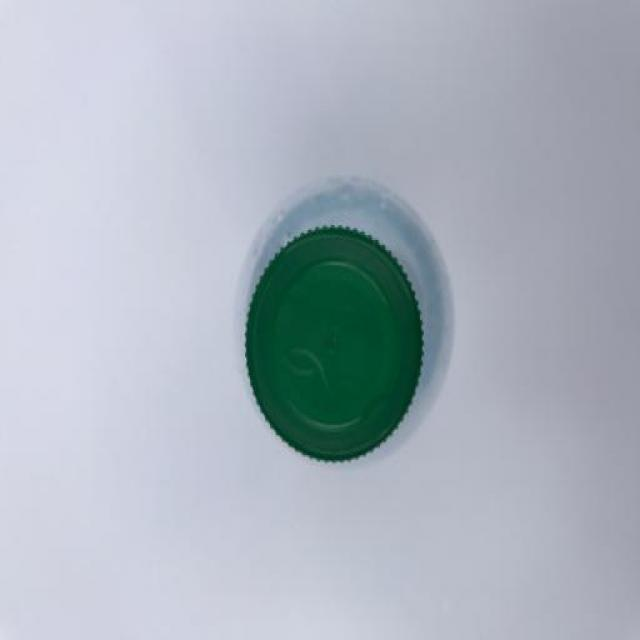plastic_bottle: (228, 214, 447, 479)
